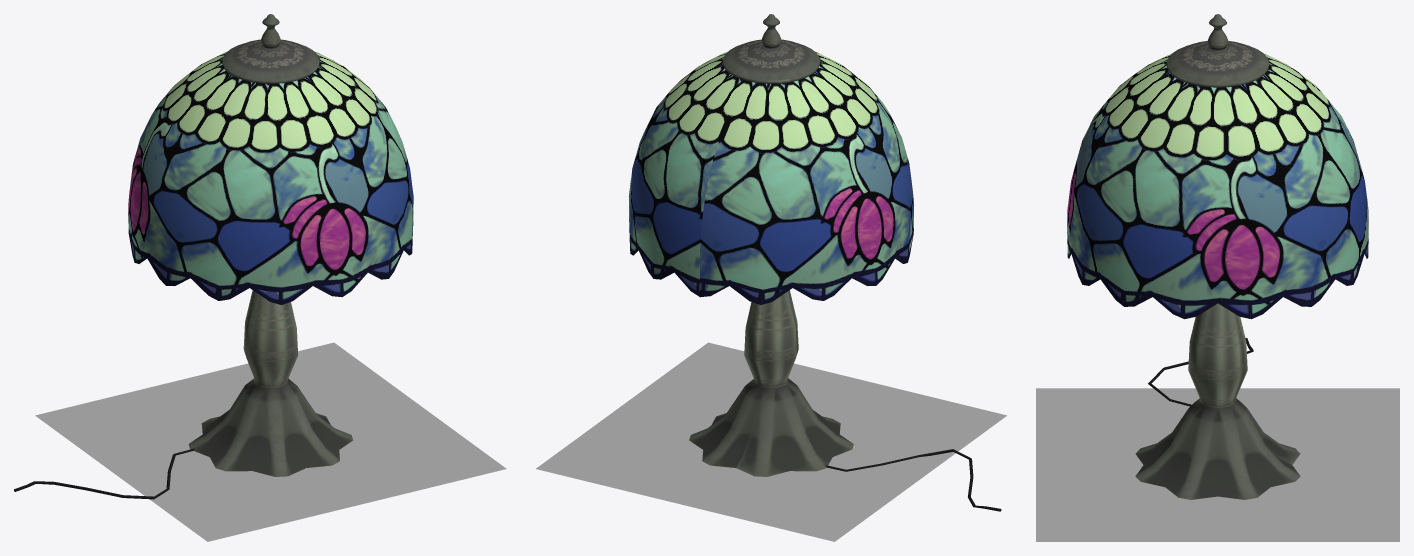
Rendered from lamp.fbx.
3 views of the same model, side by side, from view 1: azimuth 30°, elevation 25°; view 2: azimuth 150°, elevation 25°; view 3: azimuth 270°, elevation 25° (orthographic). The views are drawn at different scales.
Visible parts, largest first — view 1: lampglass, pPlane1, basemetal; view 2: lampglass, pPlane1, basemetal; view 3: lampglass, pPlane1, basemetal.
Boxes of the visible parts, bbox=[...] form: lampglass: bbox=[128, 51, 413, 304]; pPlane1: bbox=[35, 342, 506, 541]; basemetal: bbox=[14, 14, 353, 499]; lampglass: bbox=[628, 51, 914, 304]; pPlane1: bbox=[536, 342, 1006, 541]; basemetal: bbox=[689, 14, 1001, 511]; lampglass: bbox=[1067, 54, 1368, 319]; pPlane1: bbox=[1036, 388, 1399, 541]; basemetal: bbox=[1135, 14, 1300, 499].
Size of the model in its own units: 11.61 by 12.14 by 8.85.
